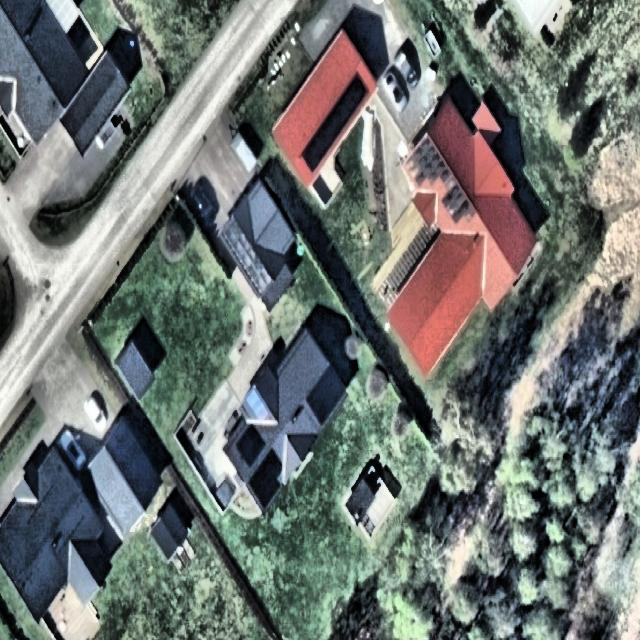roof_pv: (407, 136, 457, 185), (250, 450, 282, 506), (344, 70, 370, 130), (322, 89, 344, 158), (441, 187, 474, 225), (236, 425, 266, 465), (302, 122, 322, 179)
